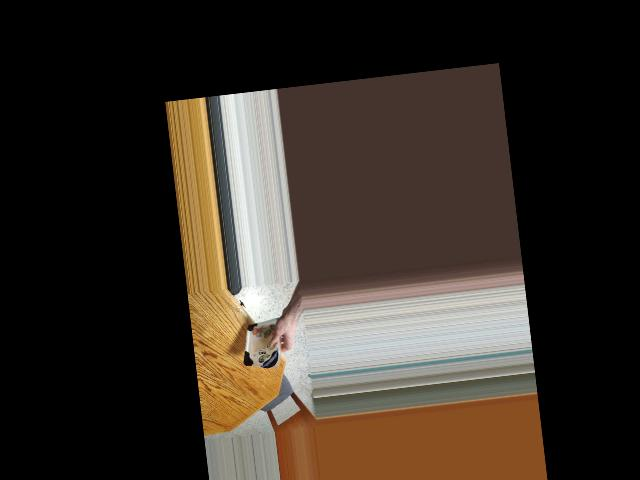cheese: (241, 309, 287, 372)
